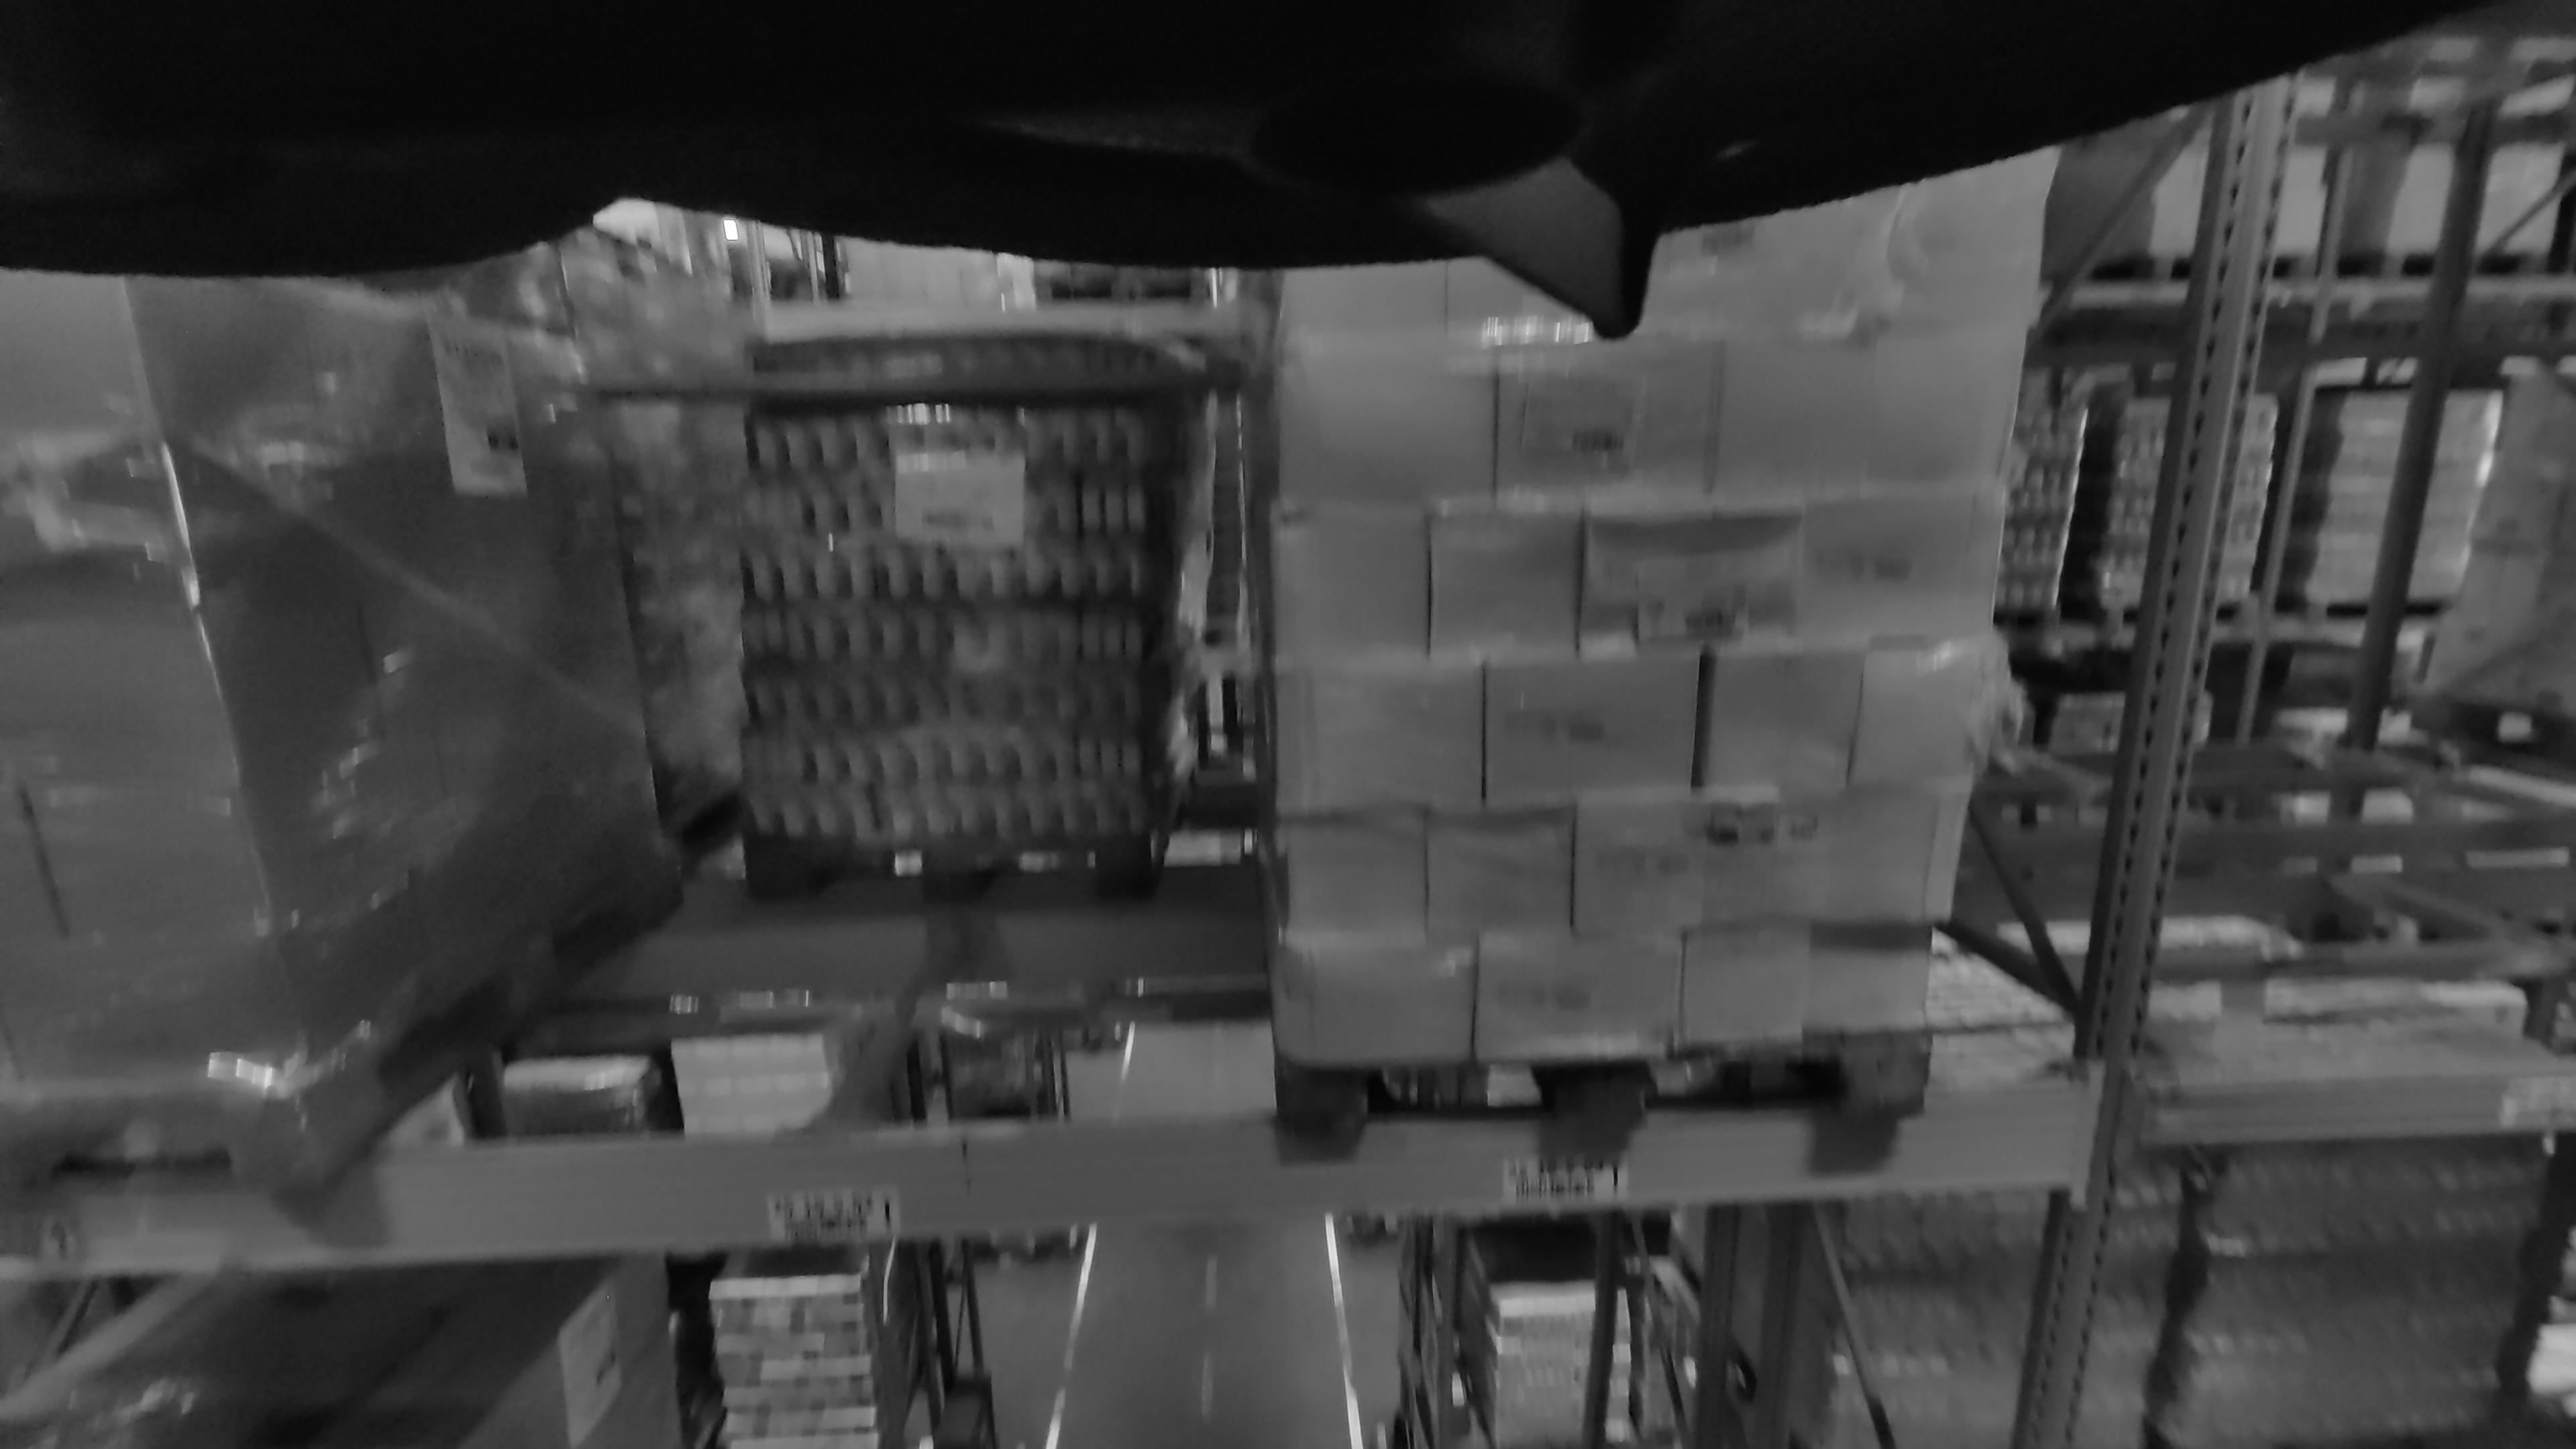empty-shelf: (582, 154, 1201, 1134), (2249, 0, 2576, 1092), (2261, 0, 2525, 823)
